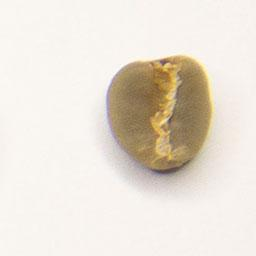premium: (102, 53, 216, 174)
